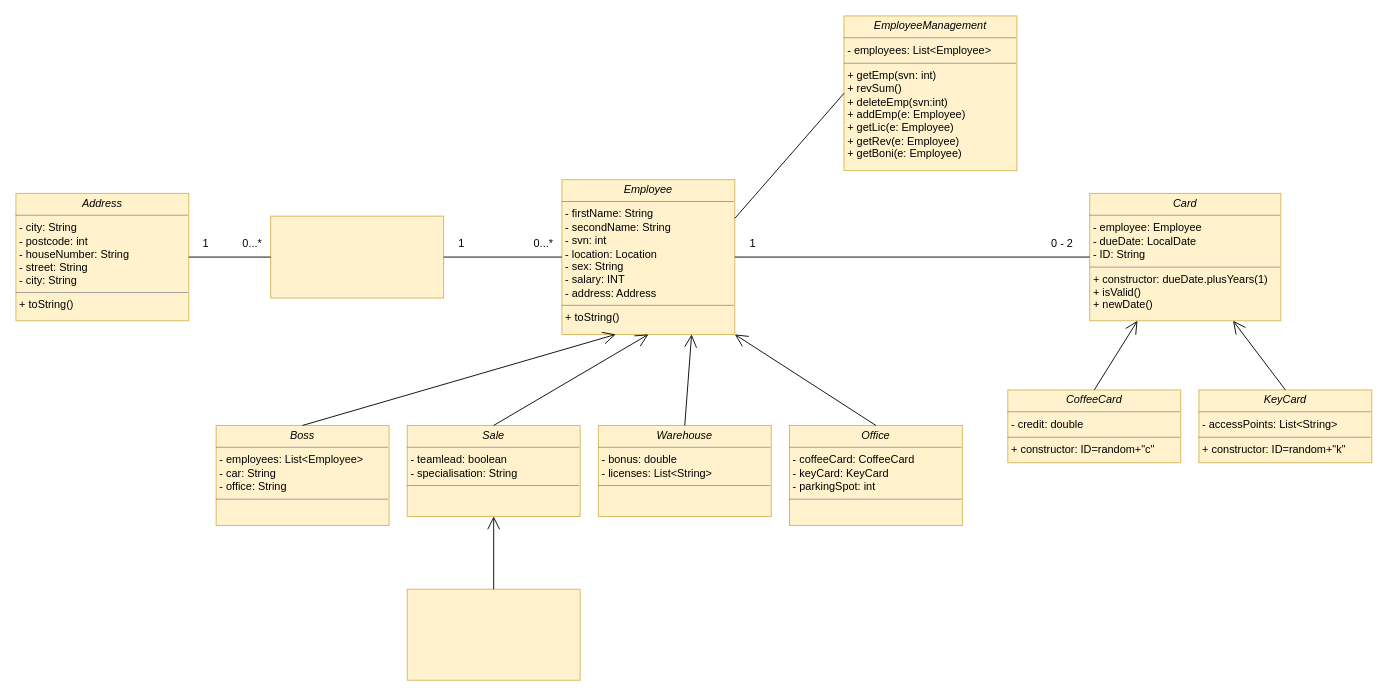
This 1388x696 diagram has some shape labels left out. Each missing label, with the box of its shape:
Cashier - keyId: String - cashierStation: String - revenue: double: (406, 588, 580, 680)
Location - address: Address - ID: String + toString(): (270, 215, 444, 298)
